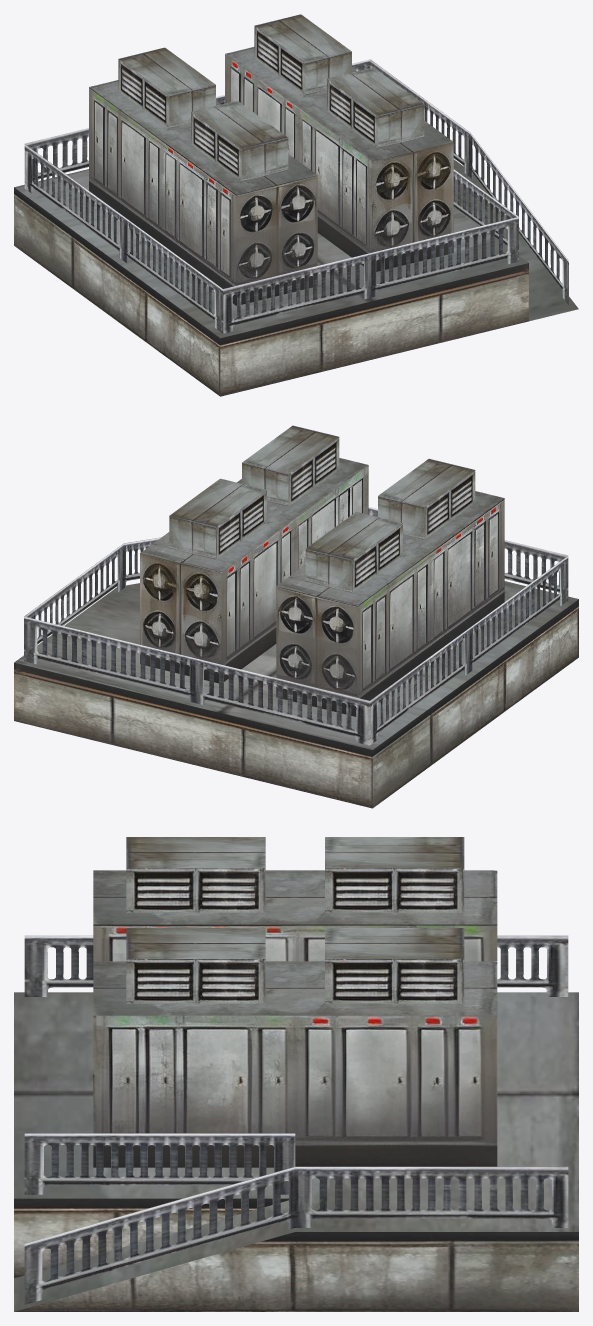
The model's file is transformerstation_hdtex.glb.
3 renders of one model, top to bottom at view 1: azimuth 30°, elevation 25°; view 2: azimuth 150°, elevation 25°; view 3: azimuth 270°, elevation 25°, orthographic. The views are drawn at different scales.
Parts seen in each view (by area): view 1: TransformerStation; view 2: TransformerStation; view 3: TransformerStation.
Part boxes in pixels (x1,y1,x2,y2): TransformerStation: (14,14,578,396); TransformerStation: (14,425,578,808); TransformerStation: (14,837,578,1311).
Size of the model in its own units: 16.62 by 8.96 by 16.56.
1 material, 1 textured.
